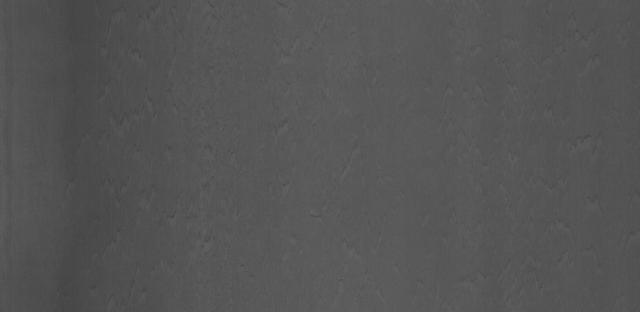silk_spot: (90, 68, 239, 162), (137, 176, 256, 266)
